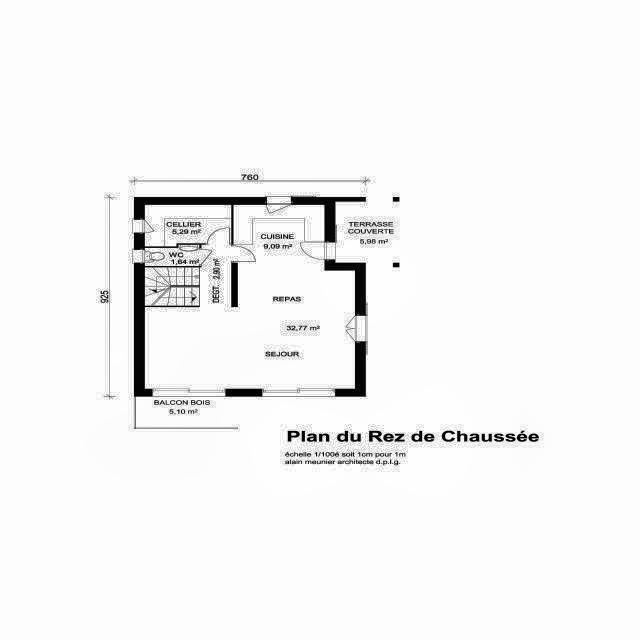room: (145, 205, 355, 389), (145, 205, 231, 246), (145, 267, 199, 306), (200, 245, 231, 307), (145, 245, 199, 266)
